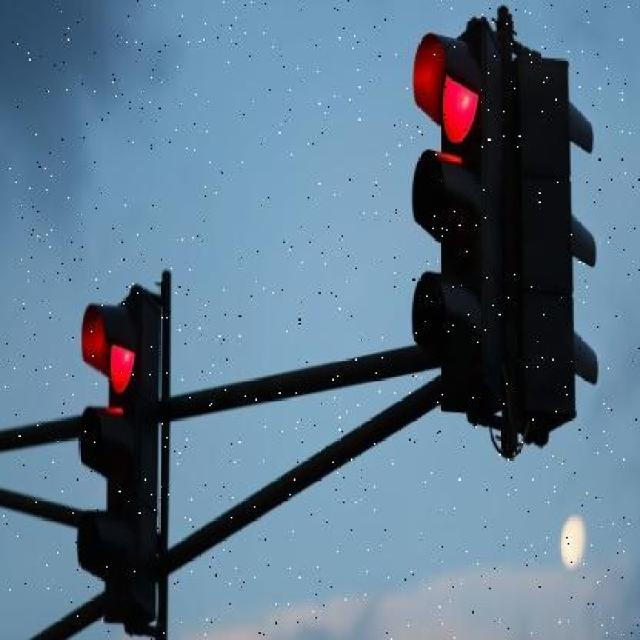red-light: (385, 23, 607, 436), (69, 291, 178, 620)
